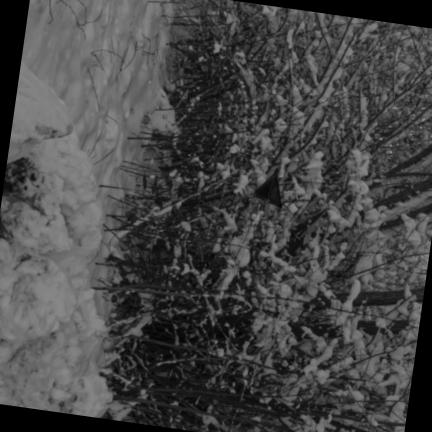Shahed: (254, 169, 280, 207)
